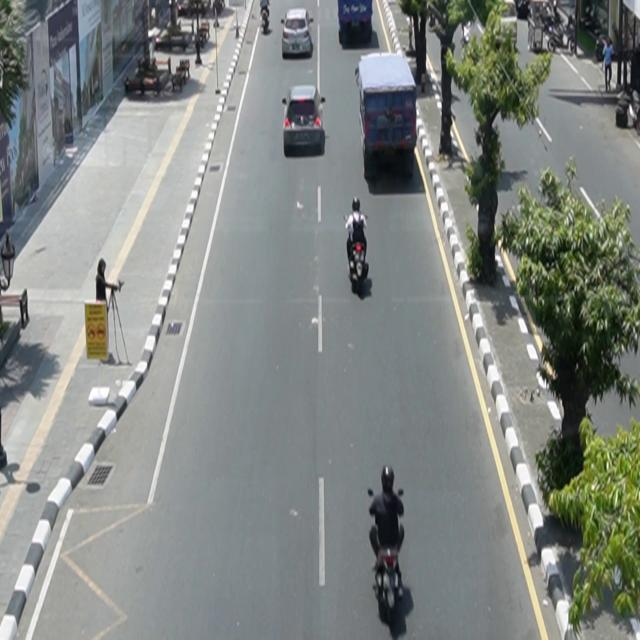bus: (356, 51, 418, 180)
car: (282, 85, 327, 158), (282, 8, 315, 59)
